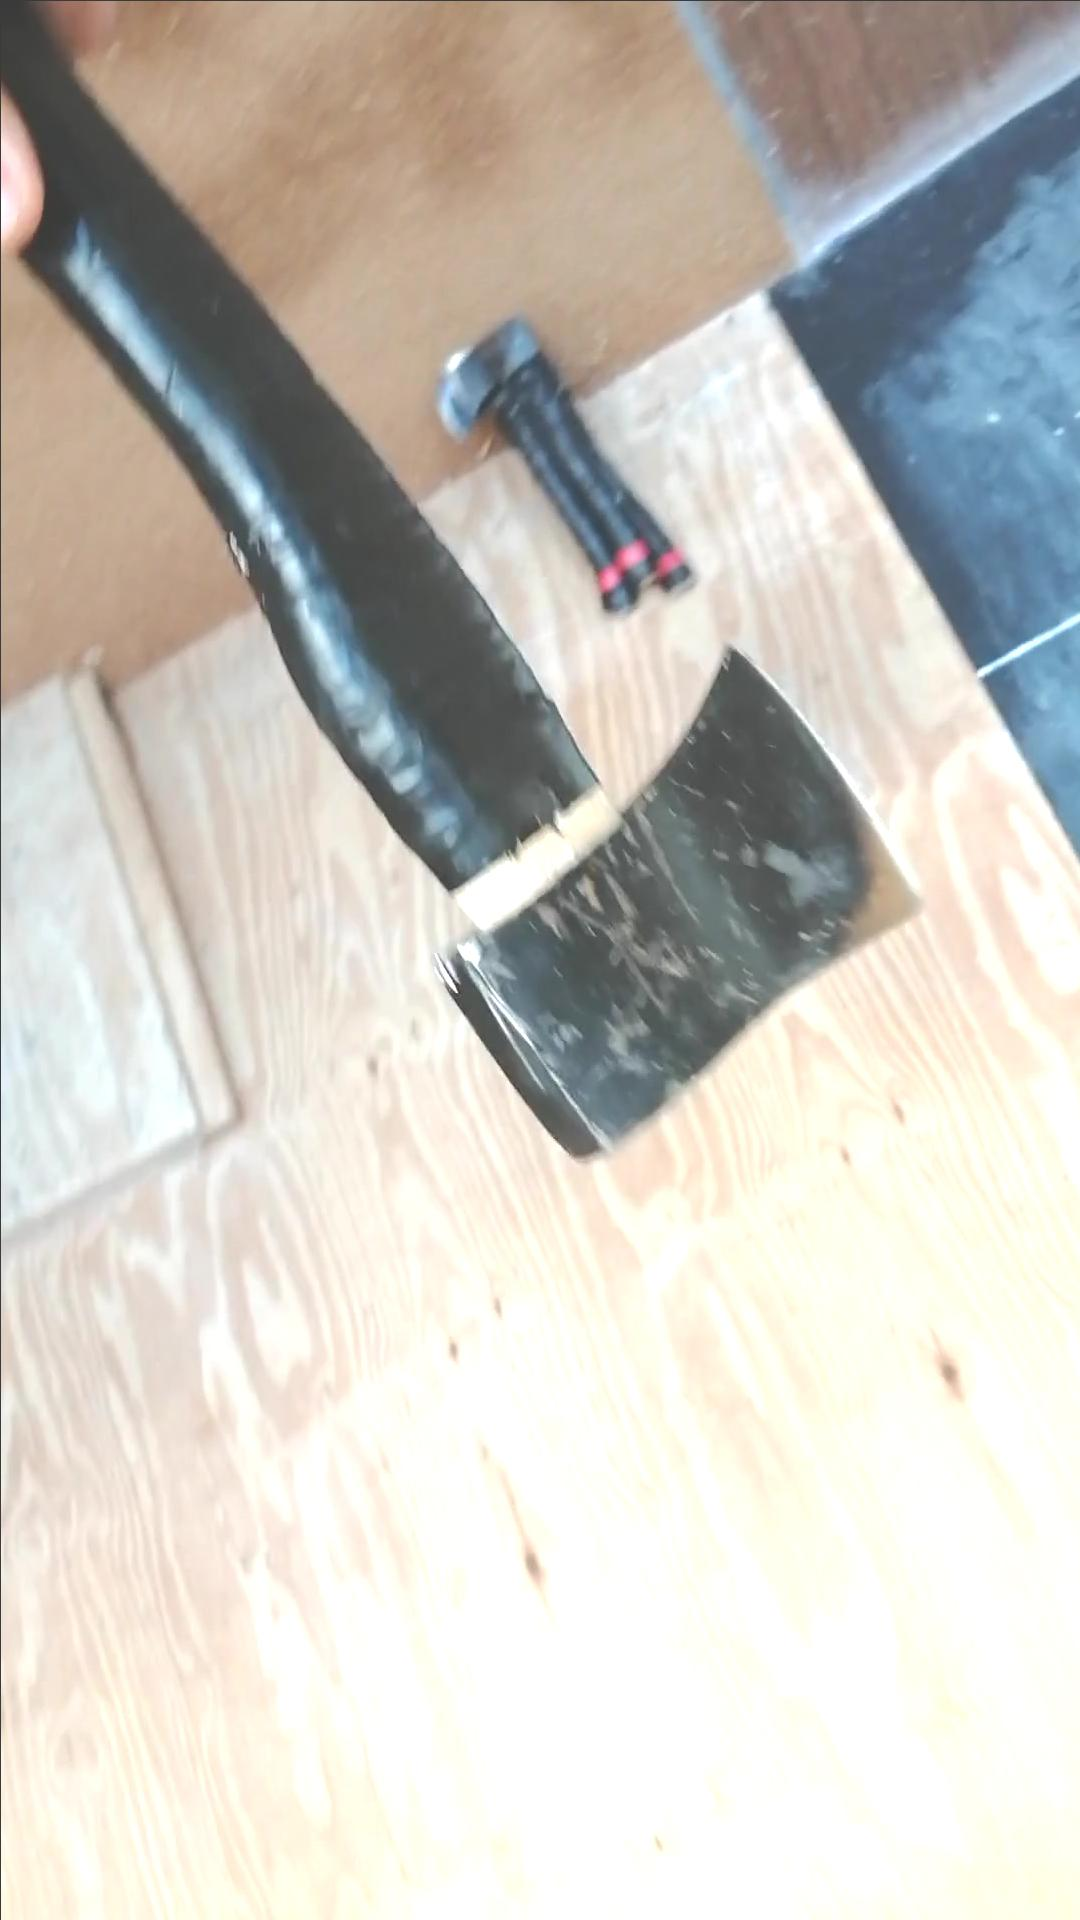Hand Axe: (436, 640, 928, 1163)
